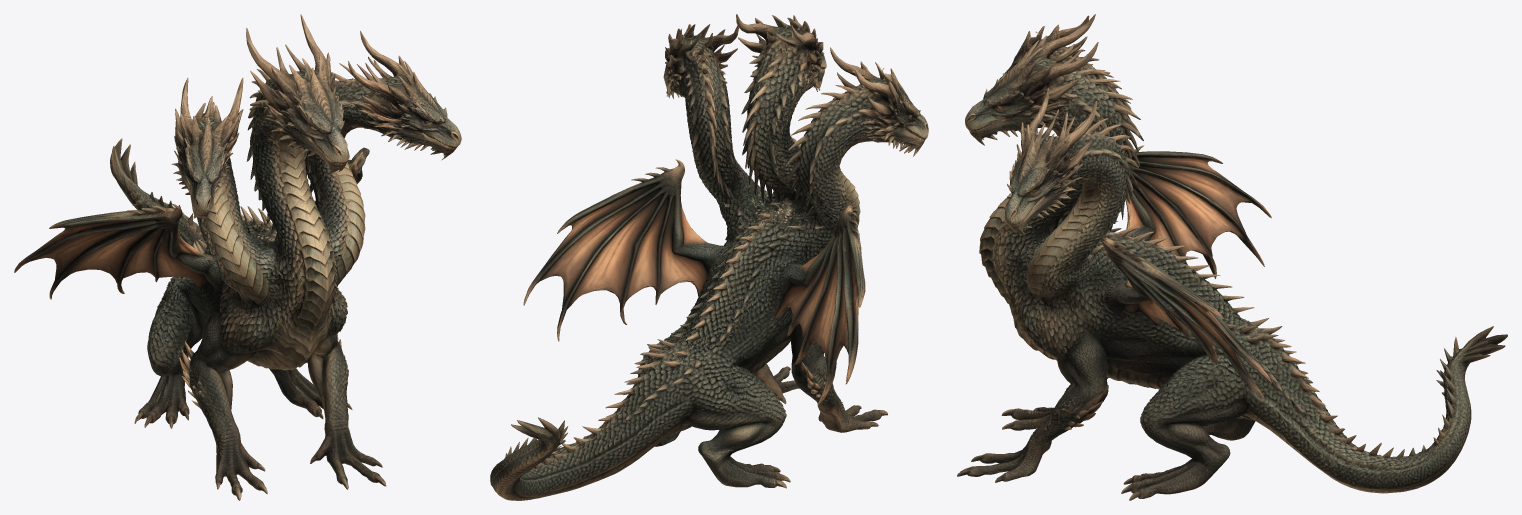
File: 3_Headed_Dragon.glb
3 renders of one model, left to right at view 1: azimuth 30°, elevation 25°; view 2: azimuth 150°, elevation 25°; view 3: azimuth 270°, elevation 25°, orthographic. The views are drawn at different scales.
Parts seen in each view (by area): view 1: output_unwrapped; view 2: output_unwrapped; view 3: output_unwrapped.
Part boxes in pixels (box(x1,y1,x2,y2)): output_unwrapped: box(14, 14, 461, 500); output_unwrapped: box(490, 14, 928, 500); output_unwrapped: box(957, 14, 1507, 500).
Size of the model in its own units: 1.35 by 1.63 by 1.9.
Materials: 1 (1 with a texture image).
